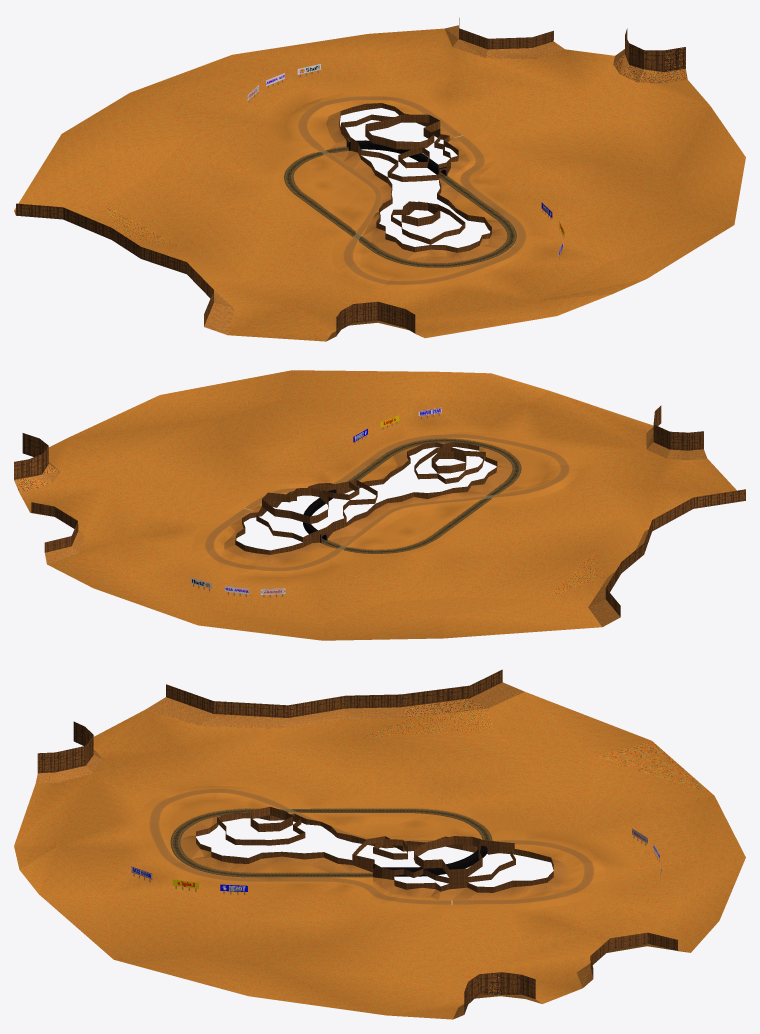
Rendered from n64_kalimari_desert.glb.
3 renders of one model, top to bottom at view 1: azimuth 30°, elevation 25°; view 2: azimuth 150°, elevation 25°; view 3: azimuth 270°, elevation 25°, orthographic. The views are drawn at different scales.
Visible parts, largest first — view 1: MARIOKART64 (n64_scene.5).008_N64 Shader 4f56269e8142feaf_0, MARIOKART64 (n64_scene.5).010_N64 Shader 2952ef74f255833c_0, MARIOKART64 (n64_scene.5).009_N64 Shader ed033824f1cb667c_0, MARIOKART64 (n64_scene.5).011_N64 Shader db4ed9069bad9a8c_0, MARIOKART64 (n64_scene.5).014_N64 Shader cdb72688a2363773_0, MARIOKART64 (n64_scene.5).015_N64 Shader a19bd31f85ba8960_0, MARIOKART64 (n64_scene.5).030_N64 Shader 8d474f3e5944d605_0; view 2: MARIOKART64 (n64_scene.5).008_N64 Shader 4f56269e8142feaf_0, MARIOKART64 (n64_scene.5).010_N64 Shader 2952ef74f255833c_0, MARIOKART64 (n64_scene.5).009_N64 Shader ed033824f1cb667c_0, MARIOKART64 (n64_scene.5).011_N64 Shader db4ed9069bad9a8c_0, MARIOKART64 (n64_scene.5).014_N64 Shader cdb72688a2363773_0, MARIOKART64 (n64_scene.5).015_N64 Shader a19bd31f85ba8960_0; view 3: MARIOKART64 (n64_scene.5).008_N64 Shader 4f56269e8142feaf_0, MARIOKART64 (n64_scene.5).010_N64 Shader 2952ef74f255833c_0, MARIOKART64 (n64_scene.5).009_N64 Shader ed033824f1cb667c_0, MARIOKART64 (n64_scene.5).011_N64 Shader db4ed9069bad9a8c_0, MARIOKART64 (n64_scene.5).014_N64 Shader cdb72688a2363773_0, MARIOKART64 (n64_scene.5).015_N64 Shader a19bd31f85ba8960_0, MARIOKART64 (n64_scene.5).030_N64 Shader 8d474f3e5944d605_0.
Boxes of the visible parts, left/top/right/bottom form: MARIOKART64 (n64_scene.5).008_N64 Shader 4f56269e8142feaf_0: left=14, top=28, right=745, bottom=341; MARIOKART64 (n64_scene.5).010_N64 Shader 2952ef74f255833c_0: left=16, top=18, right=685, bottom=335; MARIOKART64 (n64_scene.5).009_N64 Shader ed033824f1cb667c_0: left=14, top=25, right=687, bottom=341; MARIOKART64 (n64_scene.5).011_N64 Shader db4ed9069bad9a8c_0: left=297, top=96, right=526, bottom=284; MARIOKART64 (n64_scene.5).014_N64 Shader cdb72688a2363773_0: left=285, top=147, right=515, bottom=266; MARIOKART64 (n64_scene.5).015_N64 Shader a19bd31f85ba8960_0: left=284, top=147, right=516, bottom=267; MARIOKART64 (n64_scene.5).030_N64 Shader 8d474f3e5944d605_0: left=347, top=140, right=446, bottom=175; MARIOKART64 (n64_scene.5).008_N64 Shader 4f56269e8142feaf_0: left=19, top=370, right=736, bottom=640; MARIOKART64 (n64_scene.5).010_N64 Shader 2952ef74f255833c_0: left=14, top=405, right=745, bottom=616; MARIOKART64 (n64_scene.5).009_N64 Shader ed033824f1cb667c_0: left=14, top=427, right=706, bottom=626; MARIOKART64 (n64_scene.5).011_N64 Shader db4ed9069bad9a8c_0: left=205, top=434, right=569, bottom=571; MARIOKART64 (n64_scene.5).014_N64 Shader cdb72688a2363773_0: left=322, top=439, right=520, bottom=553; MARIOKART64 (n64_scene.5).015_N64 Shader a19bd31f85ba8960_0: left=321, top=438, right=521, bottom=553; MARIOKART64 (n64_scene.5).008_N64 Shader 4f56269e8142feaf_0: left=14, top=692, right=745, bottom=1019; MARIOKART64 (n64_scene.5).010_N64 Shader 2952ef74f255833c_0: left=37, top=669, right=677, bottom=1014; MARIOKART64 (n64_scene.5).009_N64 Shader ed033824f1cb667c_0: left=35, top=682, right=688, bottom=1019; MARIOKART64 (n64_scene.5).011_N64 Shader db4ed9069bad9a8c_0: left=149, top=788, right=594, bottom=904; MARIOKART64 (n64_scene.5).014_N64 Shader cdb72688a2363773_0: left=172, top=809, right=490, bottom=876; MARIOKART64 (n64_scene.5).015_N64 Shader a19bd31f85ba8960_0: left=170, top=809, right=492, bottom=877; MARIOKART64 (n64_scene.5).030_N64 Shader 8d474f3e5944d605_0: left=382, top=846, right=487, bottom=876.
Size of the model in its own units: 9139 by 401 by 8462.
25 materials, 25 textured.
